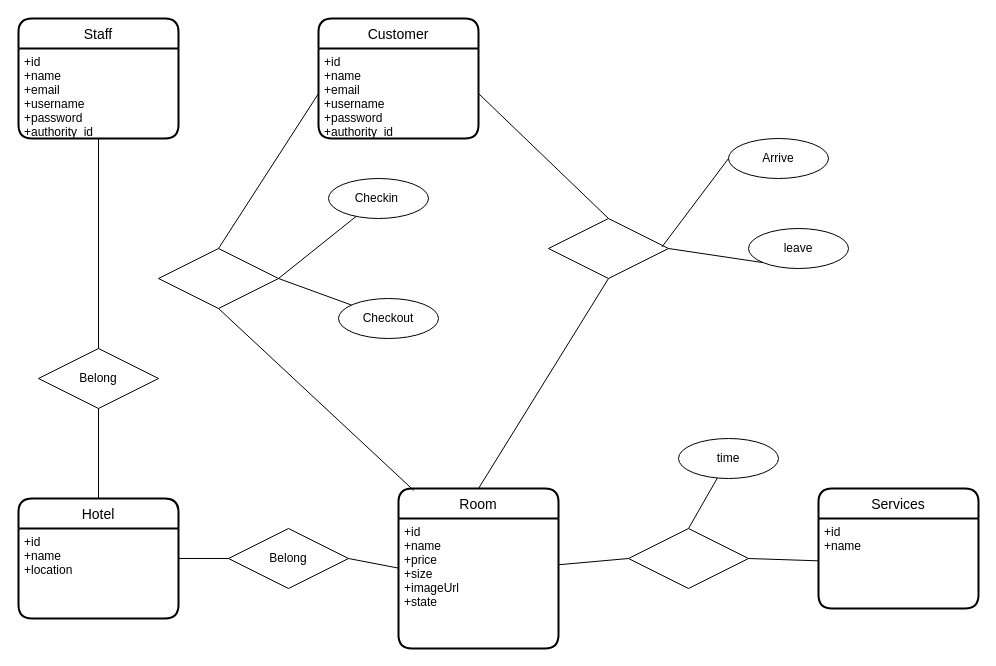
Image size: 996x666. Some labels were removed from this diagram. The shapes that lost their labels are listed below. From the top down, each one's centre as x and y in pixels, then its label:
(608,248): Order
(218,278): Borrow
(688,558): uses
